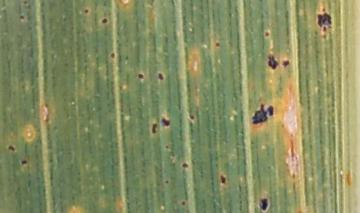tarspot: (252, 103, 274, 125), (316, 8, 332, 31), (267, 54, 279, 70), (258, 198, 270, 212), (150, 122, 159, 134), (218, 174, 226, 185), (161, 118, 170, 127), (7, 144, 16, 152), (157, 72, 165, 81), (282, 60, 290, 68), (20, 159, 28, 166), (137, 73, 145, 80), (188, 114, 196, 121), (264, 31, 270, 38), (181, 163, 189, 168), (102, 18, 108, 24), (164, 179, 170, 185), (215, 42, 221, 48), (181, 199, 186, 206), (19, 16, 25, 21), (110, 53, 116, 58), (84, 9, 89, 14), (164, 144, 169, 149), (22, 1, 28, 5)
